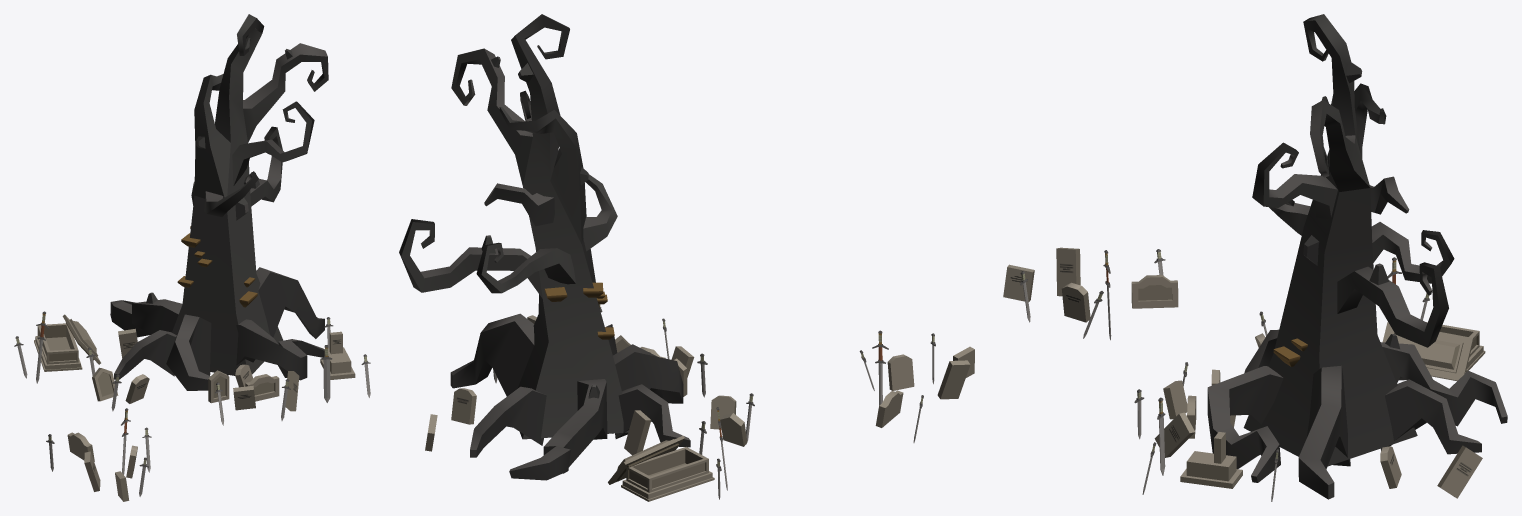
File: SF_Env_Undead_Preset_06.fbx
3 views of the same model, side by side, from view 1: azimuth 30°, elevation 25°; view 2: azimuth 150°, elevation 25°; view 3: azimuth 270°, elevation 25° (orthographic). The views are drawn at different scales.
Parts seen in each view (by area): view 1: SF_Env_Undead_Preset_06; view 2: SF_Env_Undead_Preset_06; view 3: SF_Env_Undead_Preset_06.
Boxes of the visible parts, x1,y1,x2,y2 form: SF_Env_Undead_Preset_06: [14, 14, 370, 501]; SF_Env_Undead_Preset_06: [399, 14, 974, 501]; SF_Env_Undead_Preset_06: [1003, 14, 1507, 501].
Bounding box in the file's own units: 19.34 × 18.89 × 18.85.
